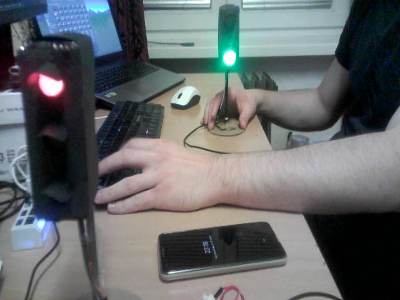trafficlight_green: (219, 8, 239, 67)
trafficlight_red: (27, 46, 85, 211)
